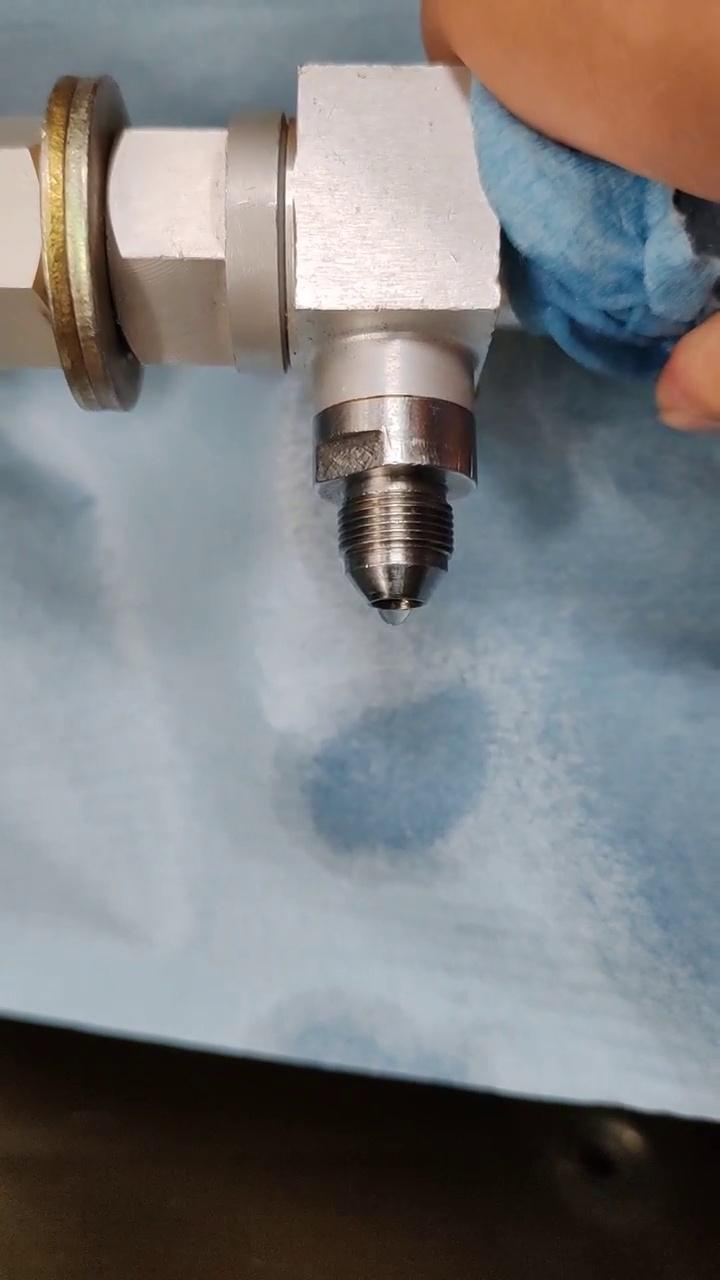water drop: (379, 602, 409, 626)
